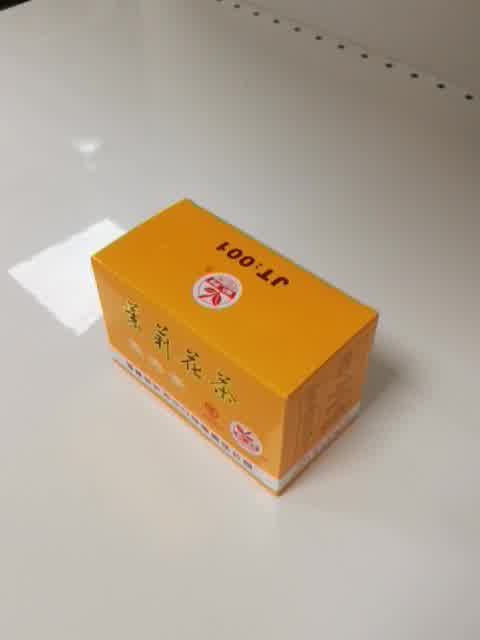jasminetea: (89, 196, 379, 497)
